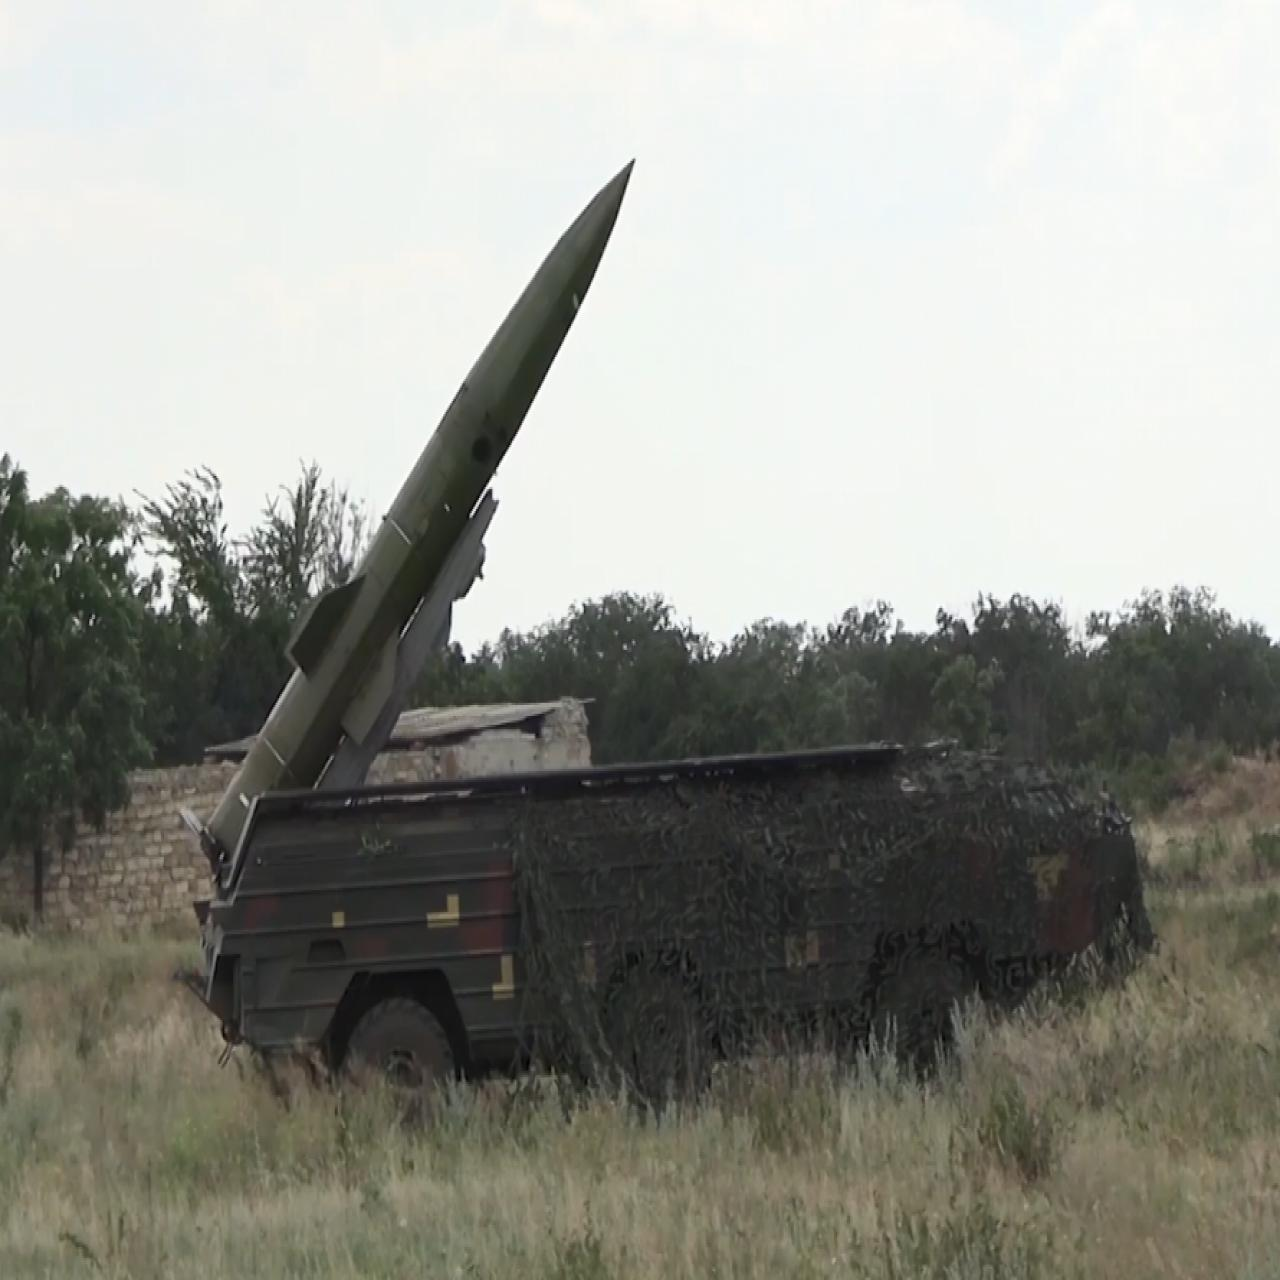MIL_Veh: (207, 150, 1149, 1098)
